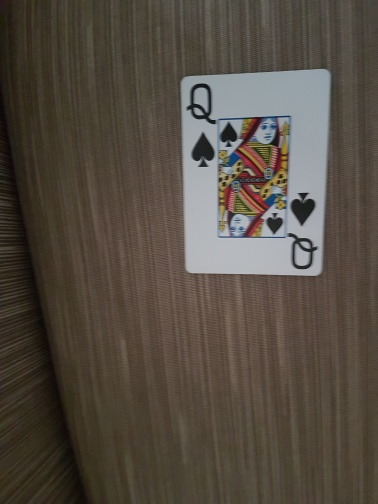queen: (181, 68, 330, 276)
